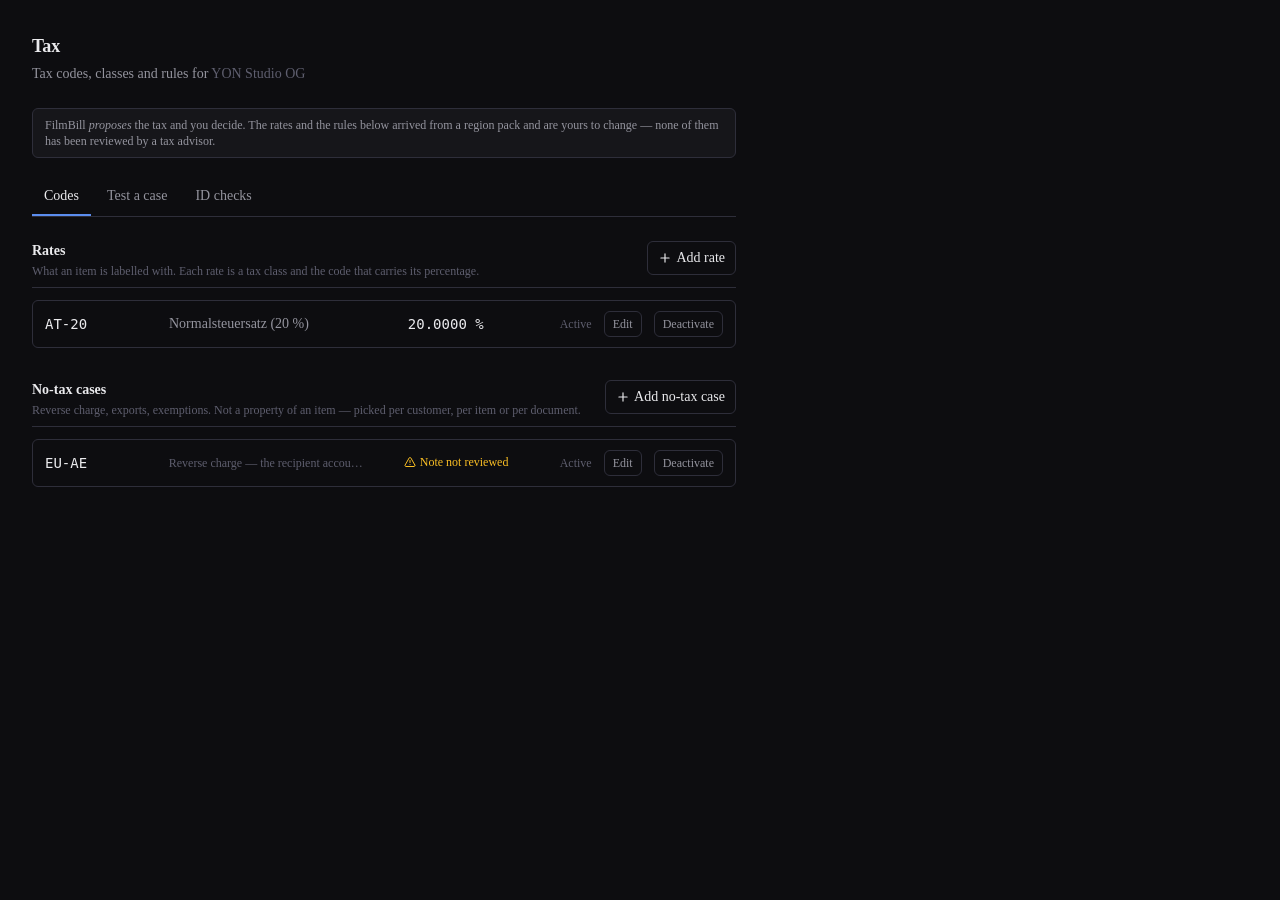
Scenario: adding a rate › shows the server’s own sentence when the rate is refused
The width and height of the screenshot is (1280, 900).
Click the button with test id "tax-add-rate": coordinates (692, 258) 647,241 -> 736,275
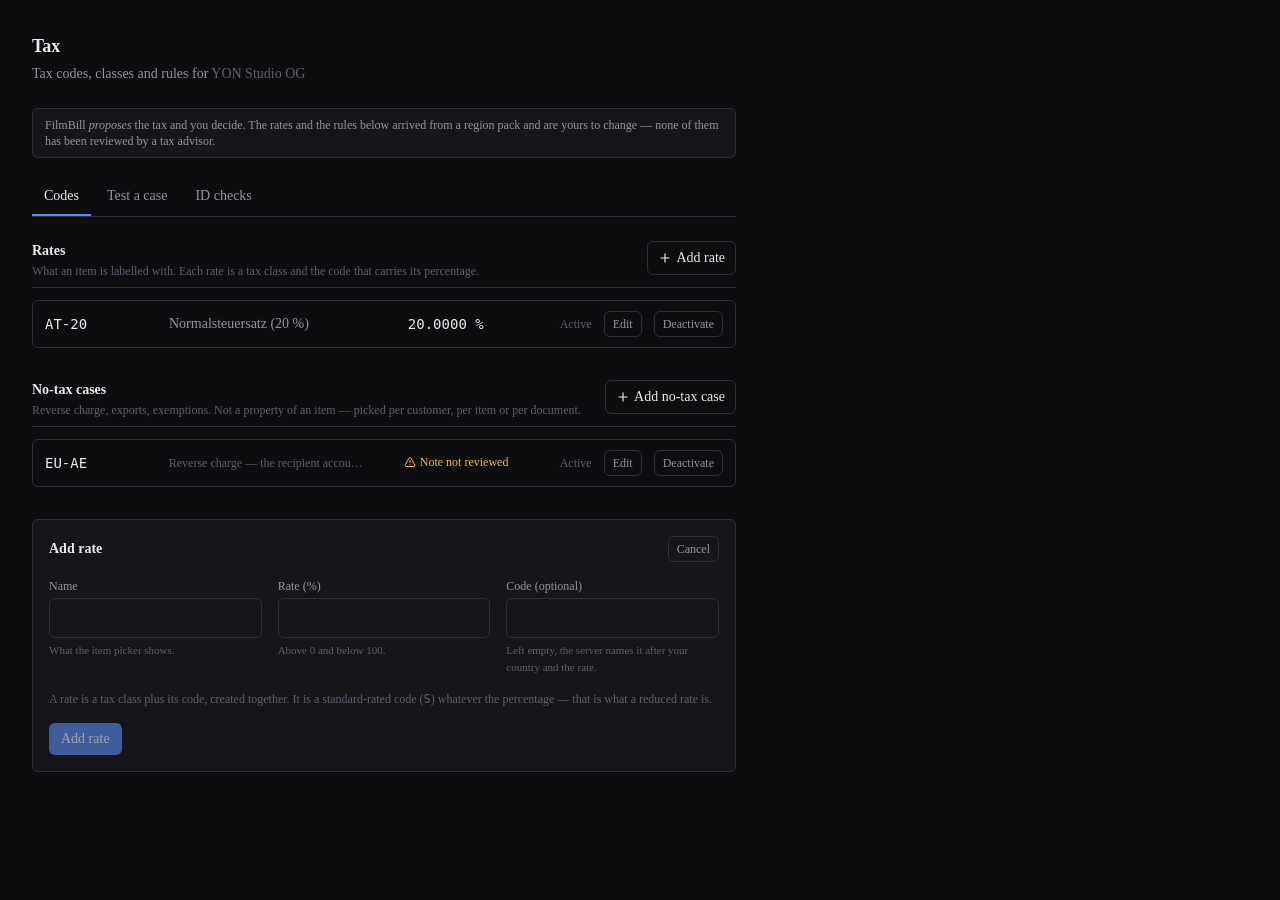
In the field labelled "Name What the item picker shows.": coordinates (155, 618) 49,598 -> 262,638, type "Nonsense"
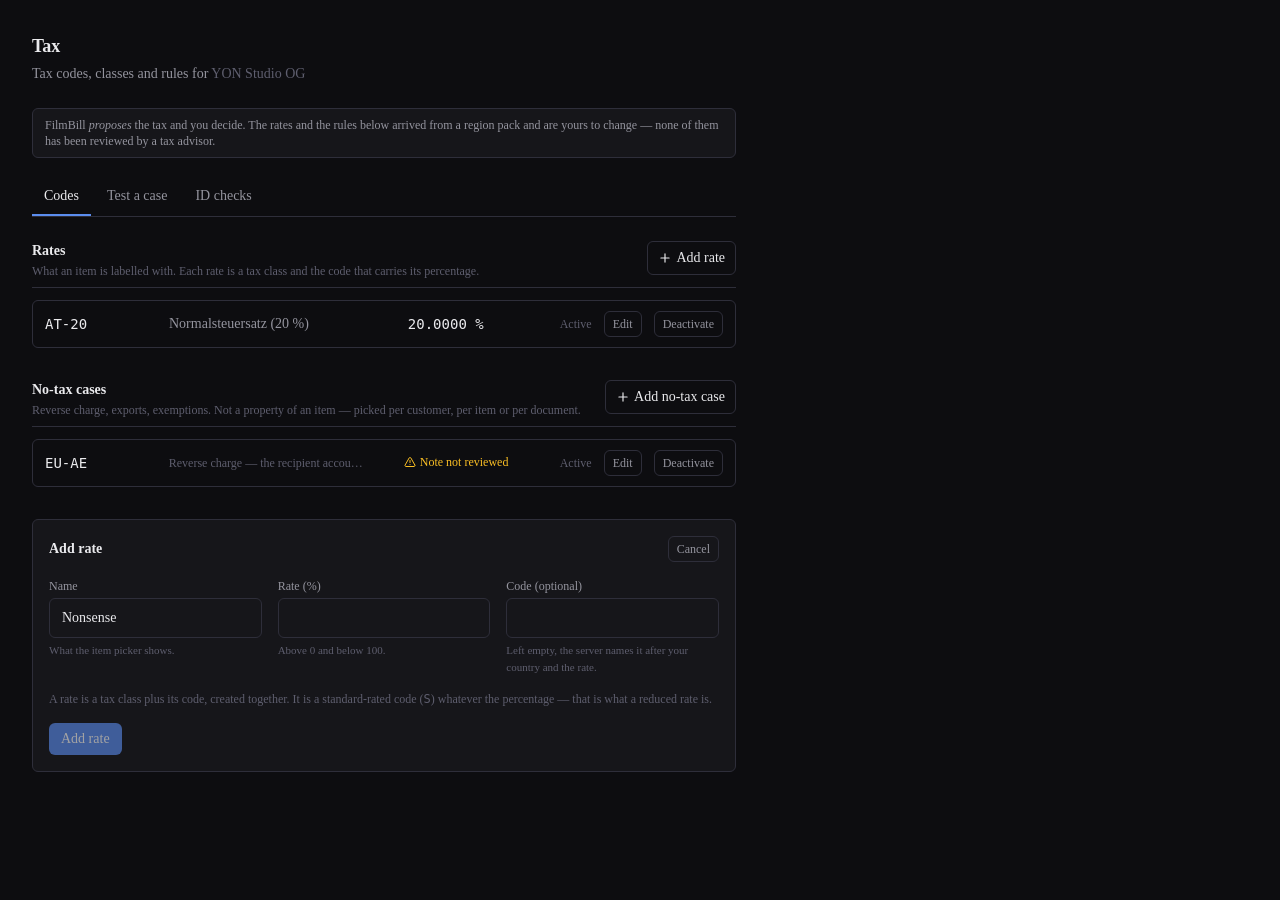
In the field labelled "Rate (%) Above 0 and below 100.": coordinates (384, 618) 278,598 -> 490,638, type "140"
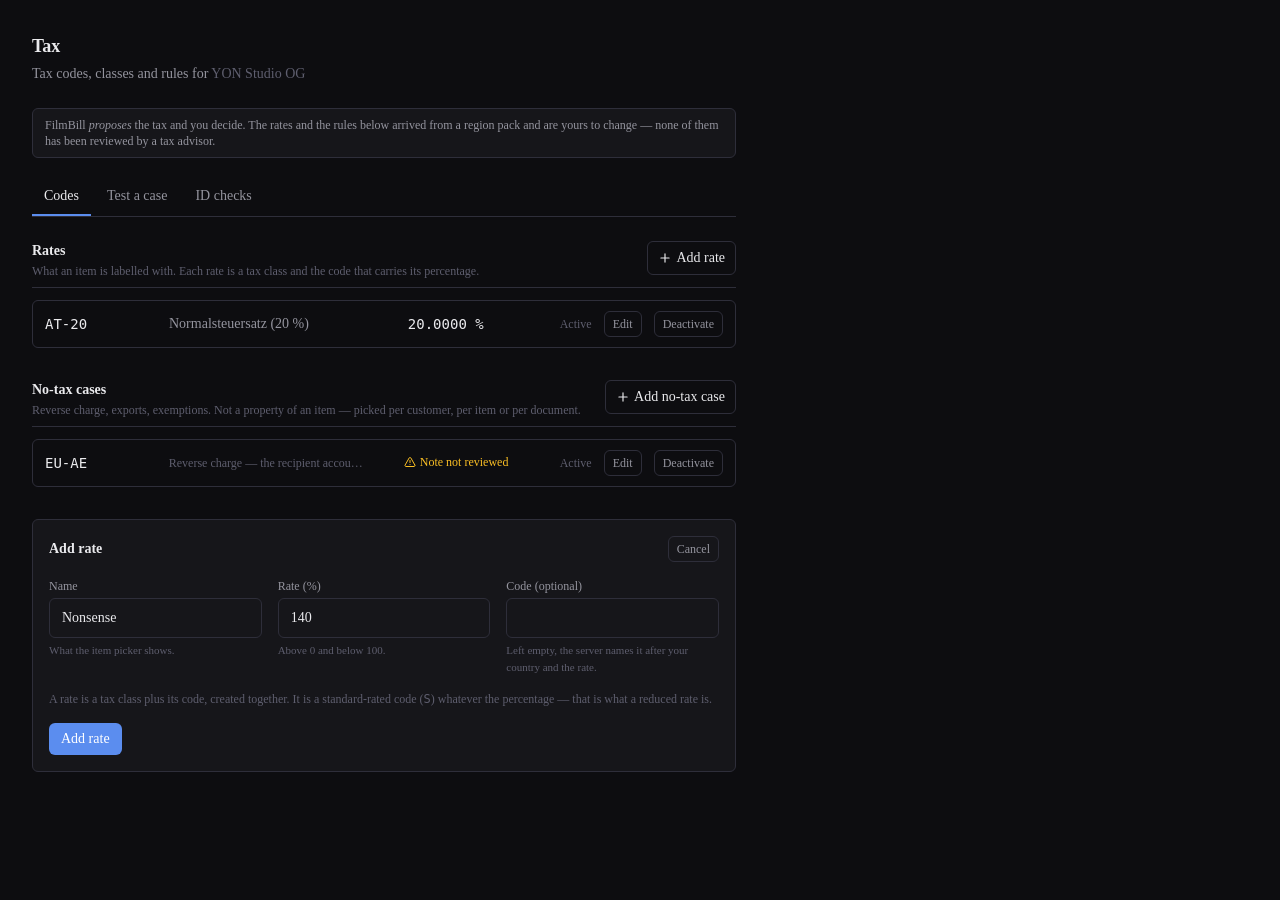
Click the button with test id "tax-add-rate-submit": coordinates (85, 739) 49,723 -> 122,755
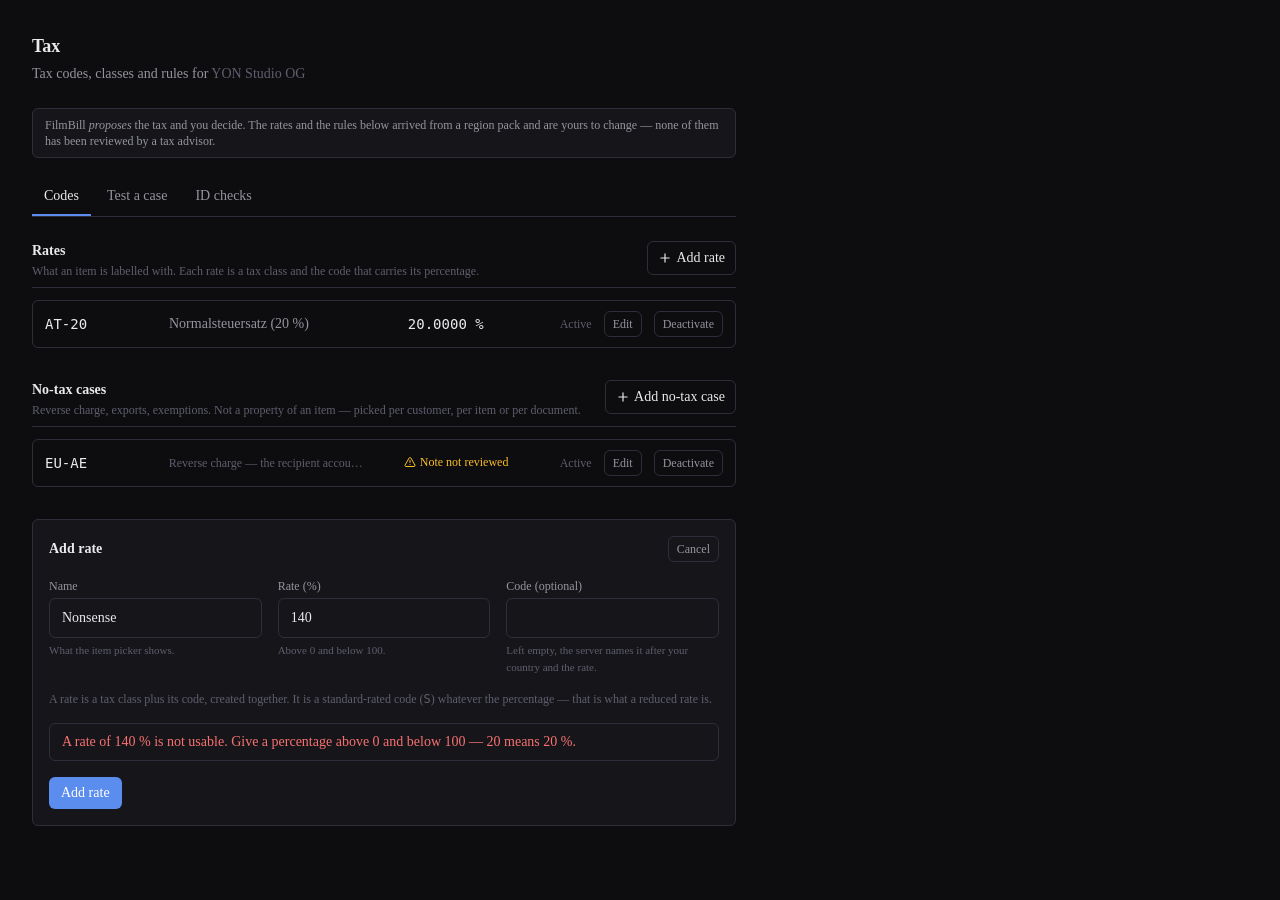
Expected: the message with test id "tax-add-rate-error" shows "above 0 and below 100", 62,734 -> 576,749
